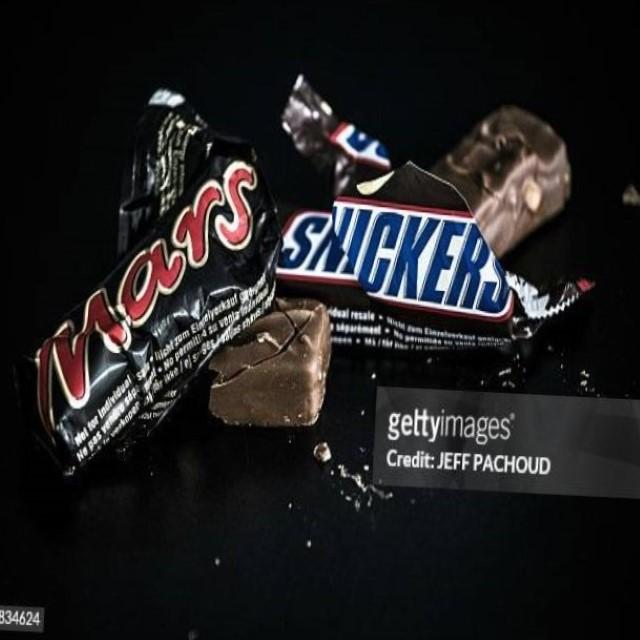mars_chocolate: (70, 136, 272, 456)
snickers_chocolate: (282, 197, 553, 330)
